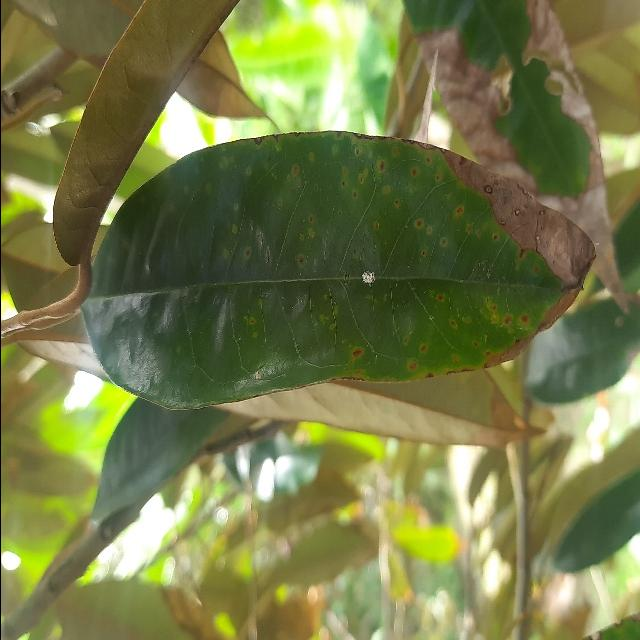Leaf Spot: (77, 125, 596, 417)
